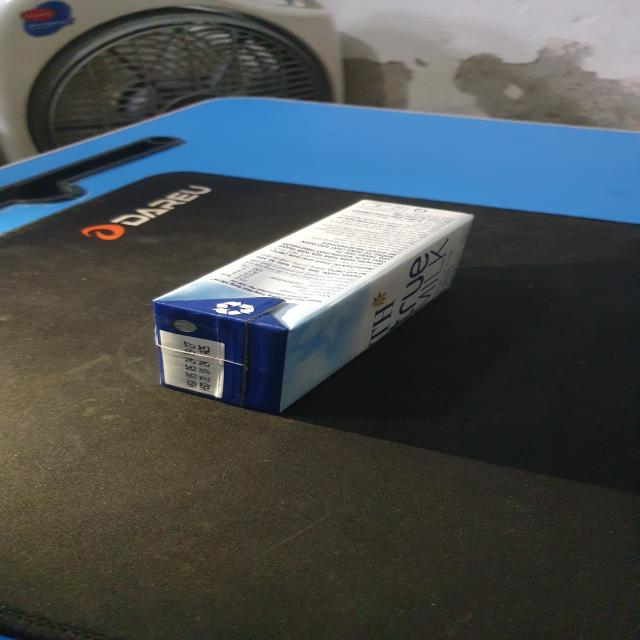TH: (153, 196, 478, 418)
